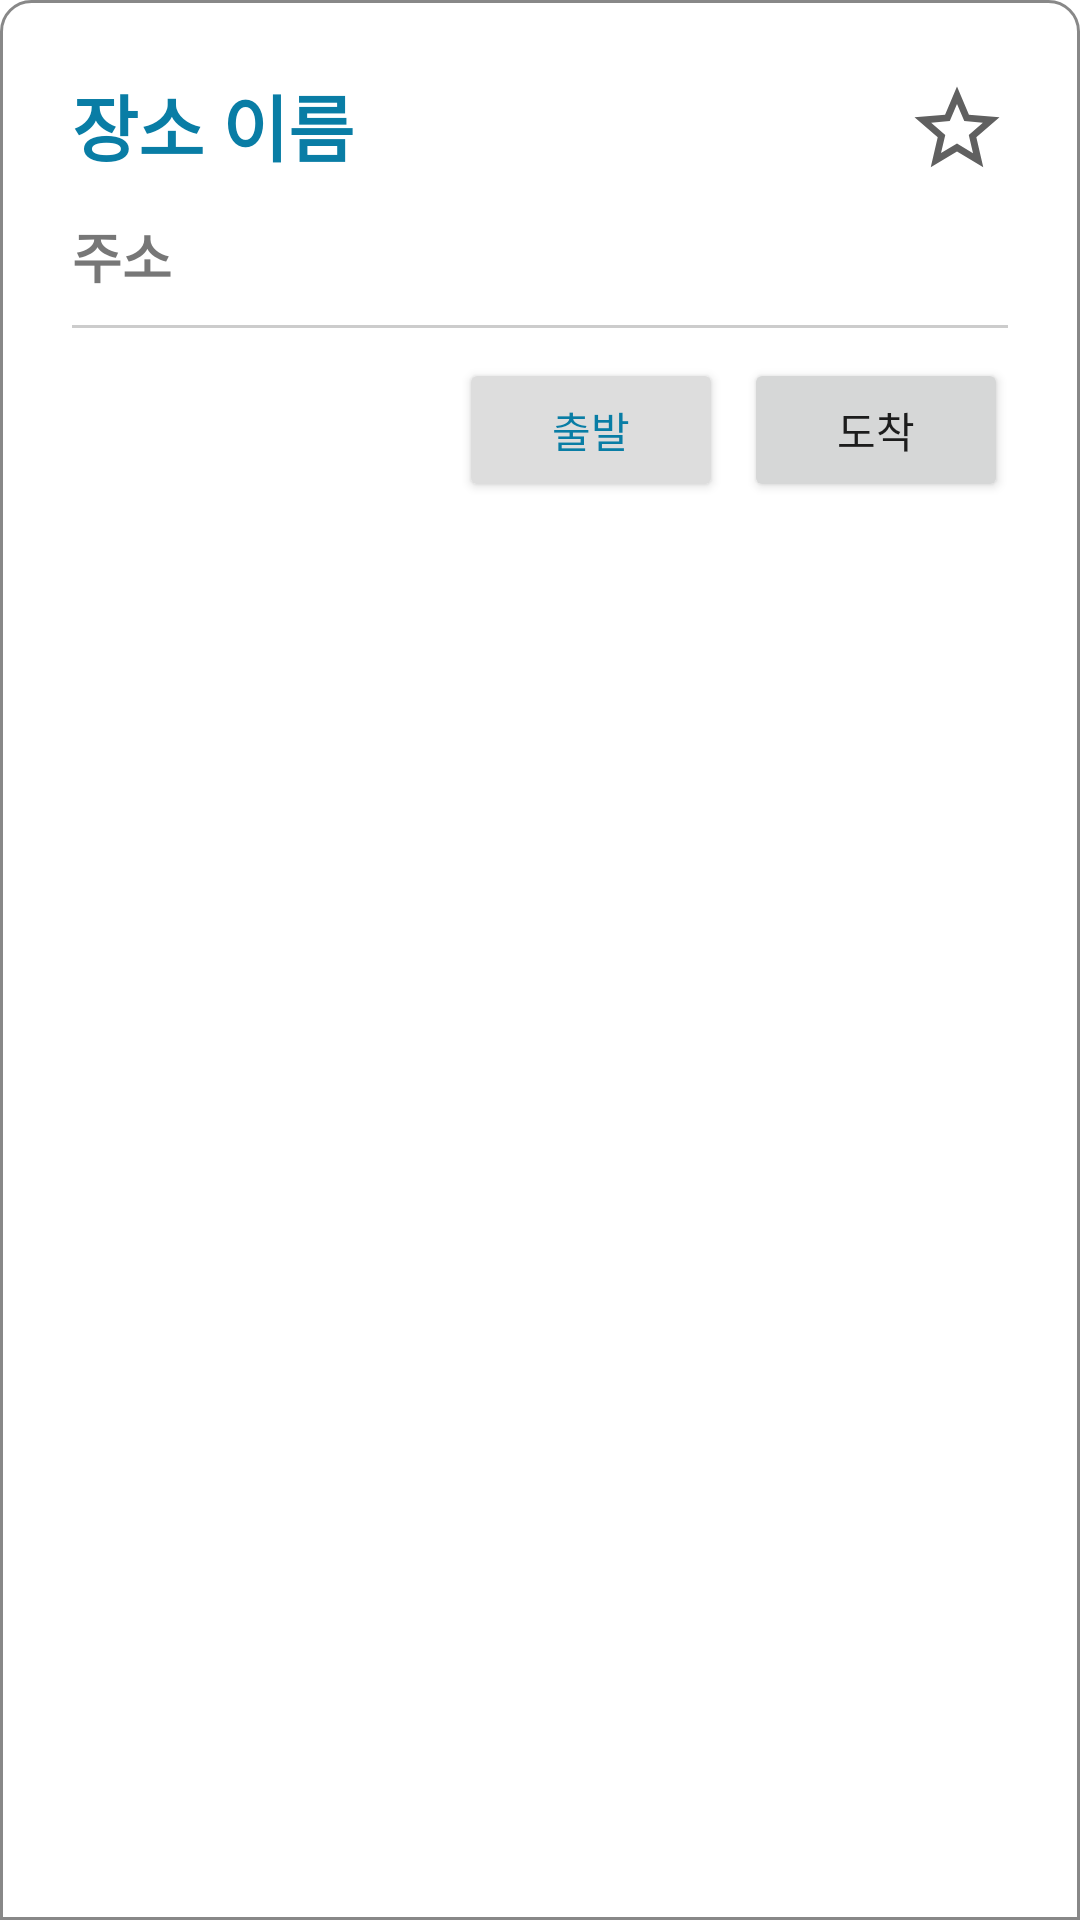

Screen size 1080px x 1920px. Icon name, then its center in pixels as point (x, y):
location inform star empty: point (957, 127)
